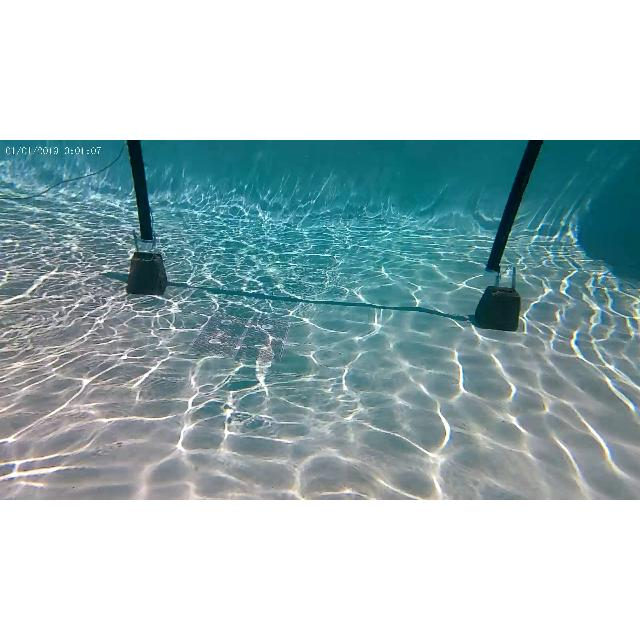prequal gate: (127, 140, 541, 286)
prequal gate leg l: (124, 140, 170, 282)
prequal gate leg r: (478, 140, 544, 284)
